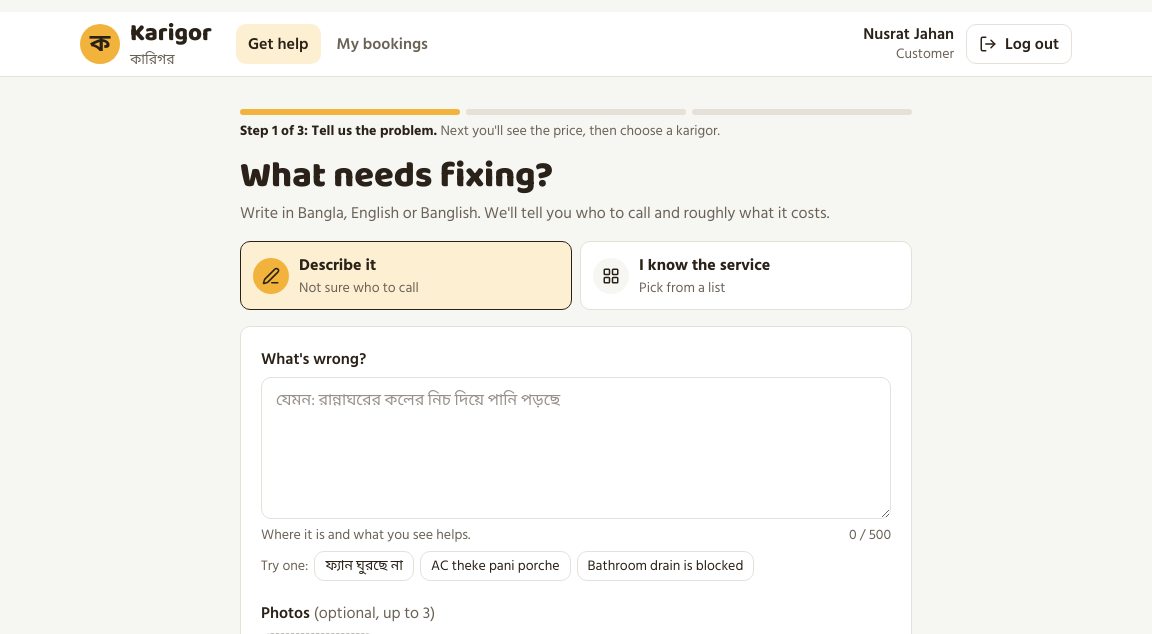
Test: describe it › fills the box with an example
Click the button "AC theke pani porche" at (495, 566), box [420,551,570,581]
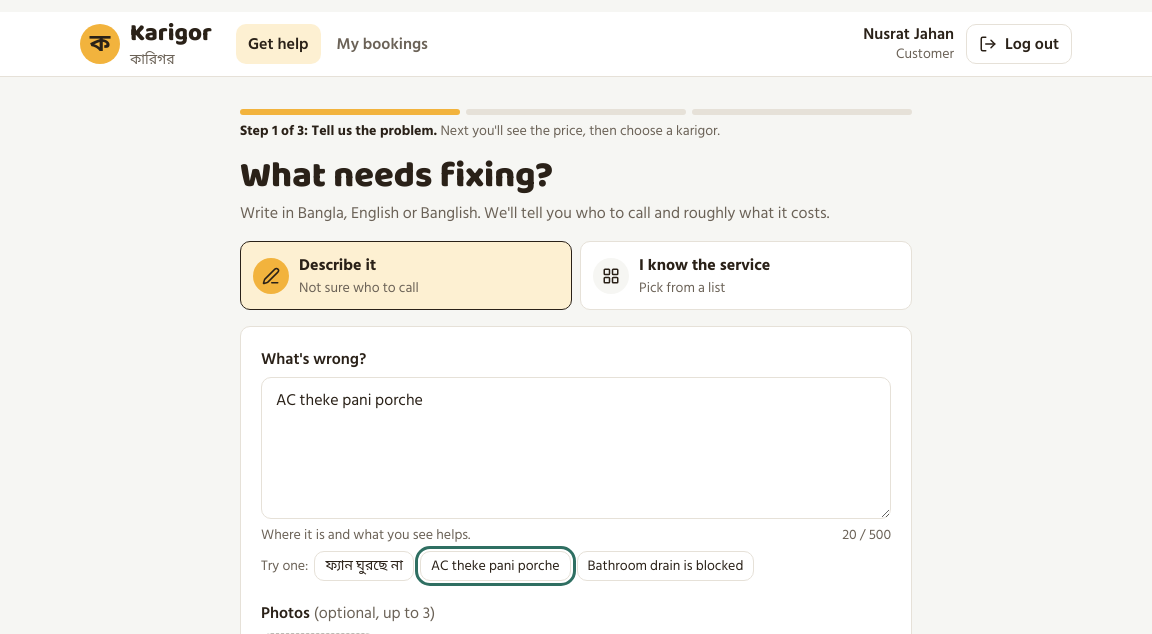
Expected: the text box labelled "What's wrong?" holds "AC theke pani porche", [261,377,891,519]
